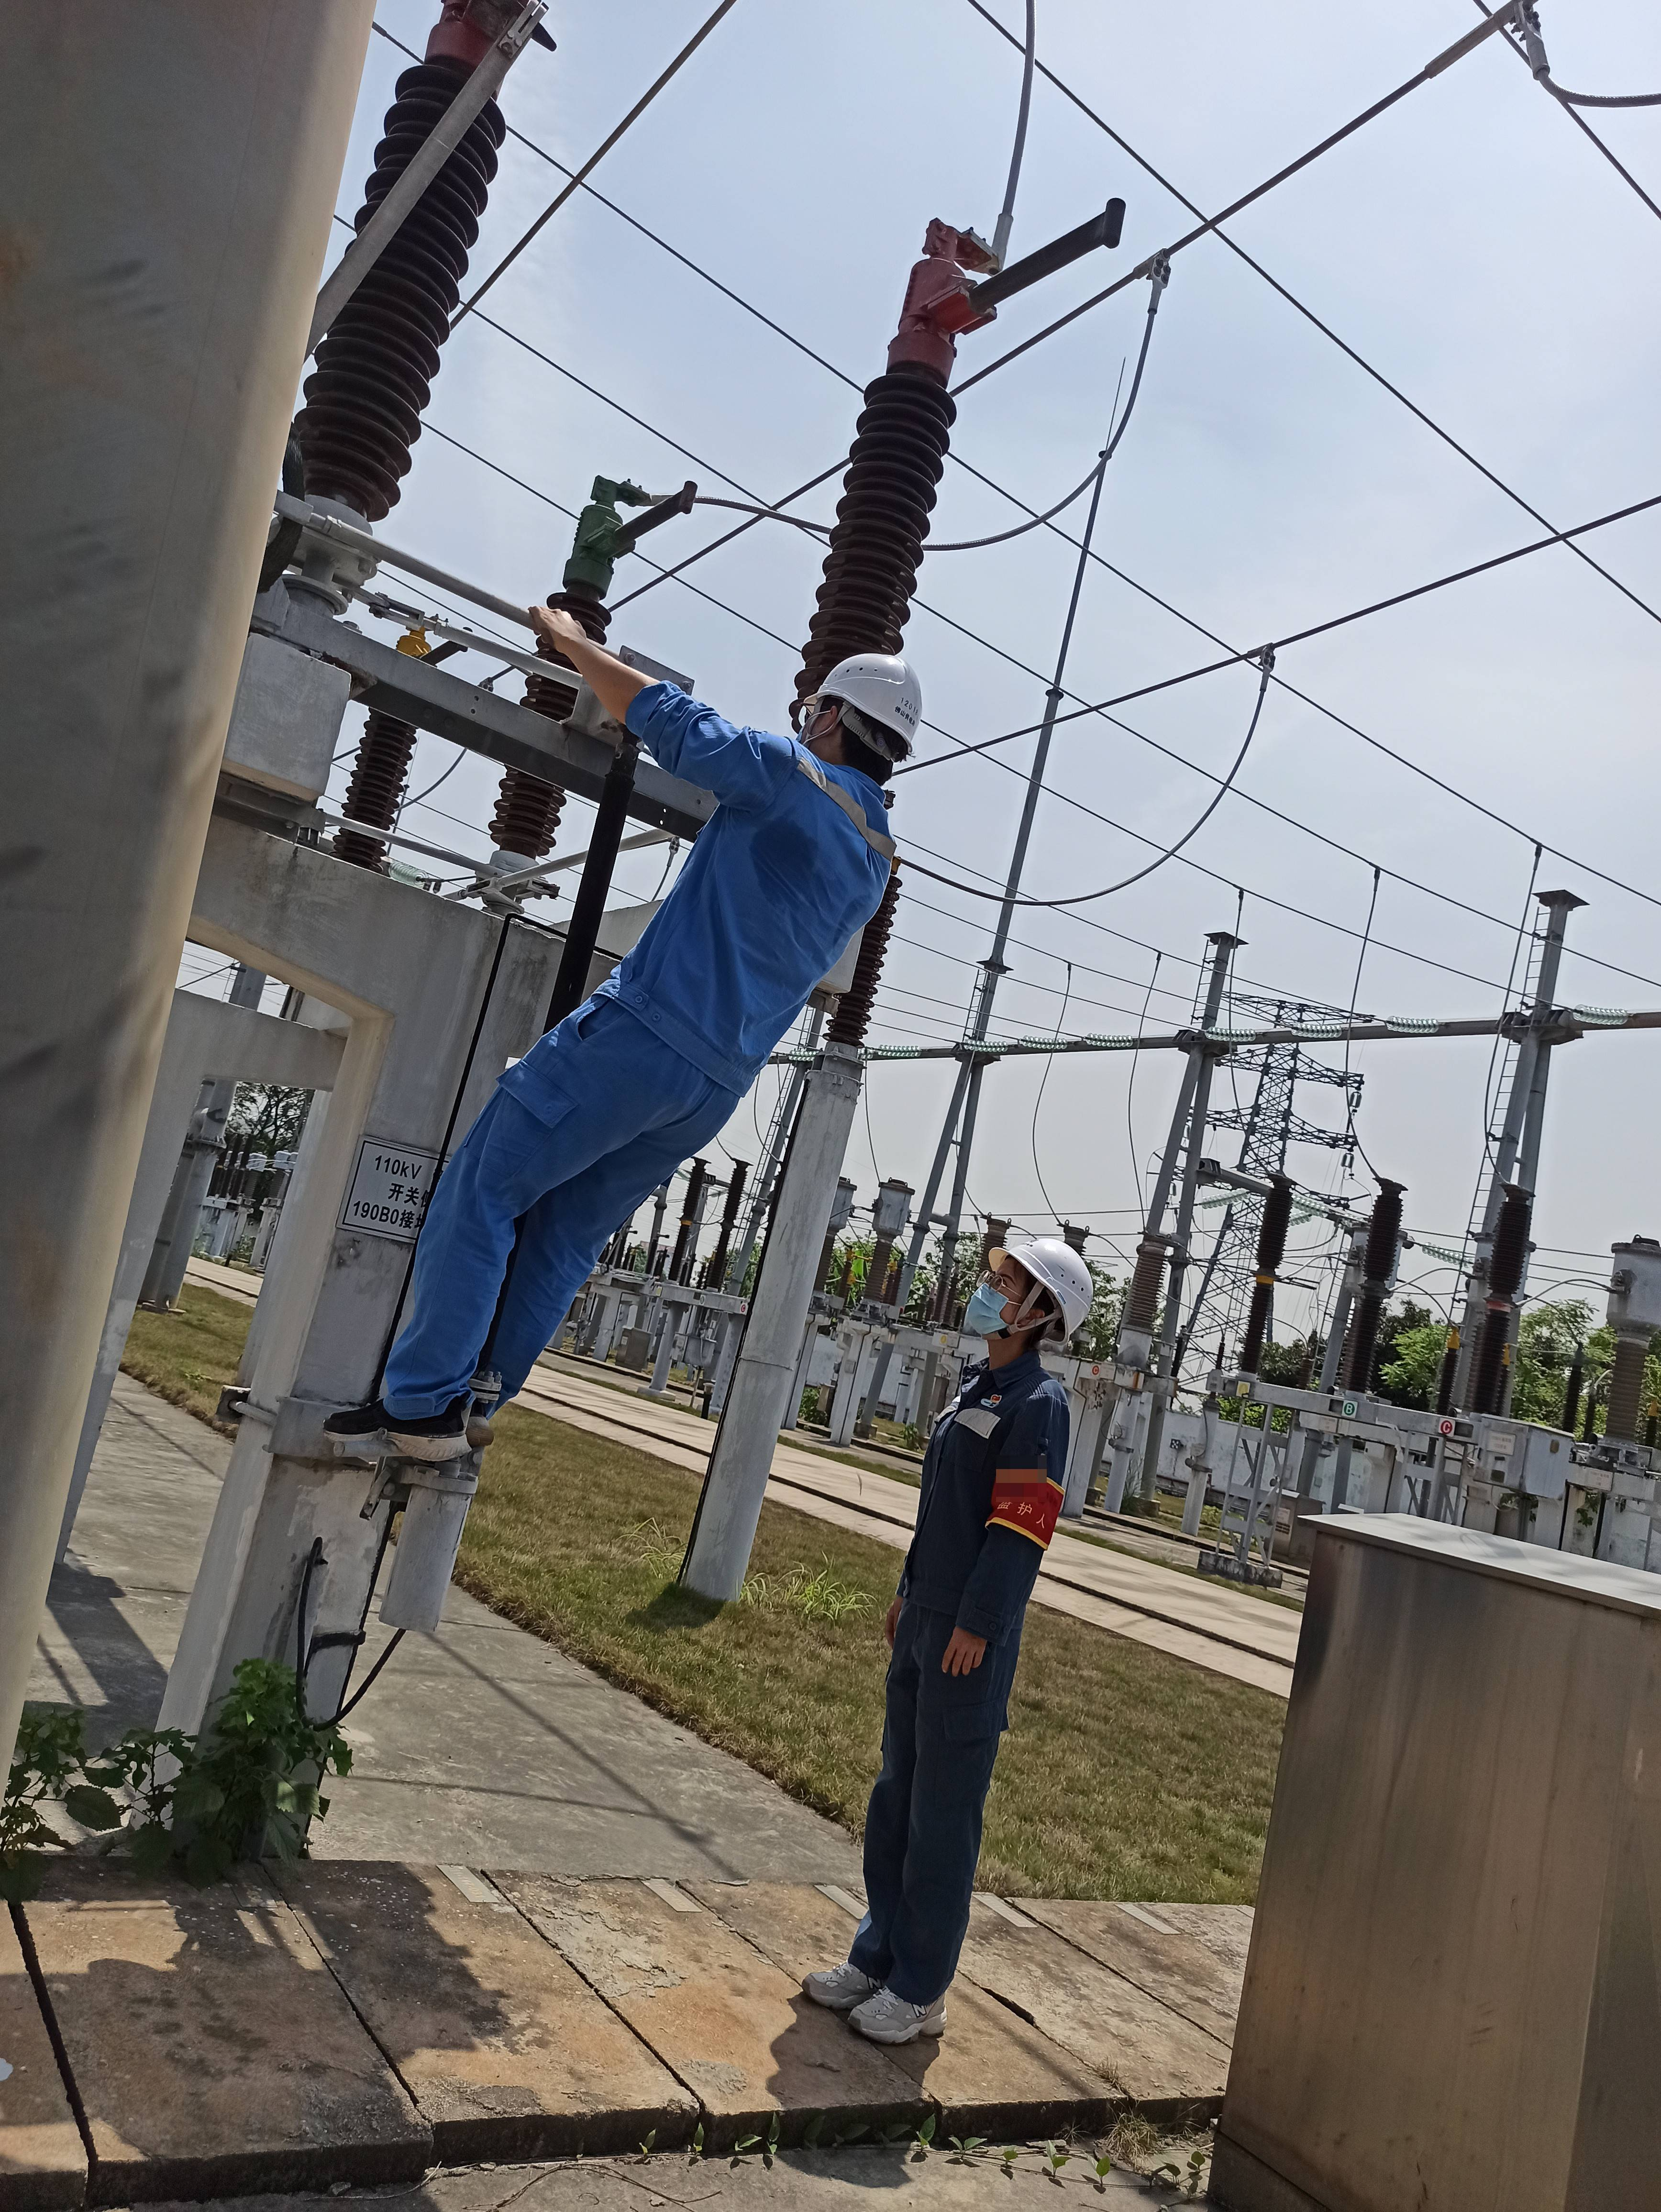downsuit: (424, 1054, 715, 1404), (851, 1656, 1015, 1982)
upsuit: (618, 680, 902, 1029), (911, 1352, 1080, 1626)
wrongtop: (541, 609, 687, 734)
